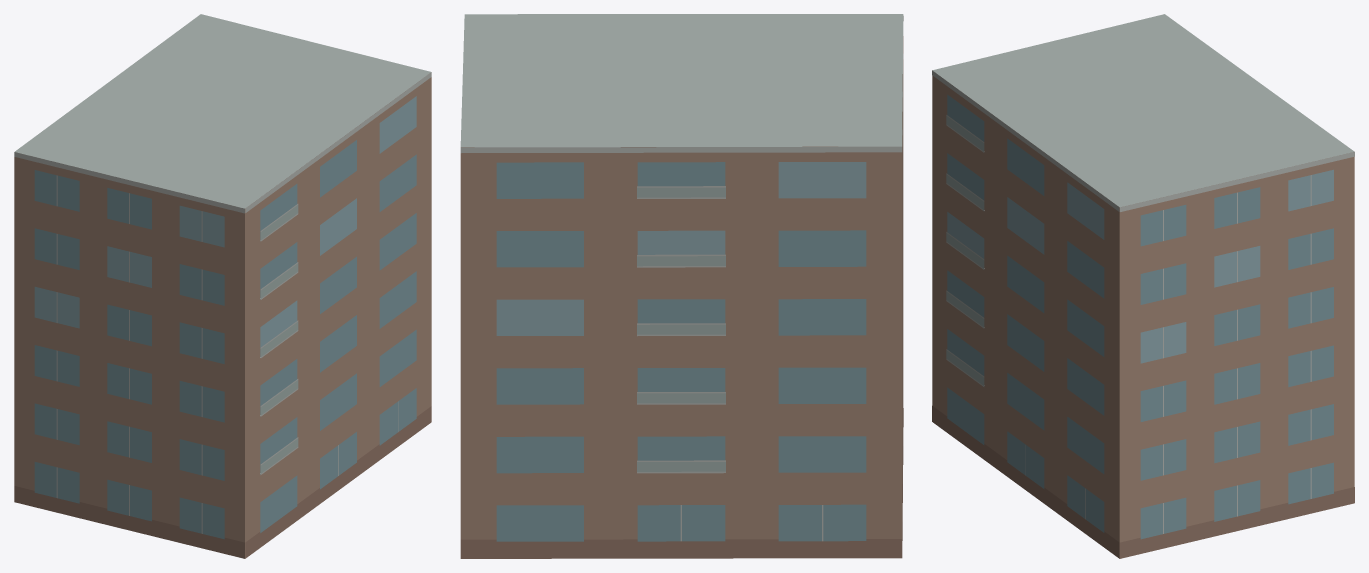
File: survey-upis-32694500.glb
The picture shows the model from 3 angles, left to right: view 1: azimuth 30°, elevation 25°; view 2: azimuth 150°, elevation 25°; view 3: azimuth 270°, elevation 25°; orthographic projection. The views are drawn at different scales.
Visible parts, largest first — view 1: survey-upis-32694500.tmp; view 2: survey-upis-32694500.tmp; view 3: survey-upis-32694500.tmp.
Part boxes in pixels (bbox=[...]): survey-upis-32694500.tmp: bbox=[14, 14, 431, 558]; survey-upis-32694500.tmp: bbox=[460, 14, 903, 558]; survey-upis-32694500.tmp: bbox=[932, 14, 1354, 558].
Bounding box in the file's own units: 20.66 × 17.5 × 19.08.
